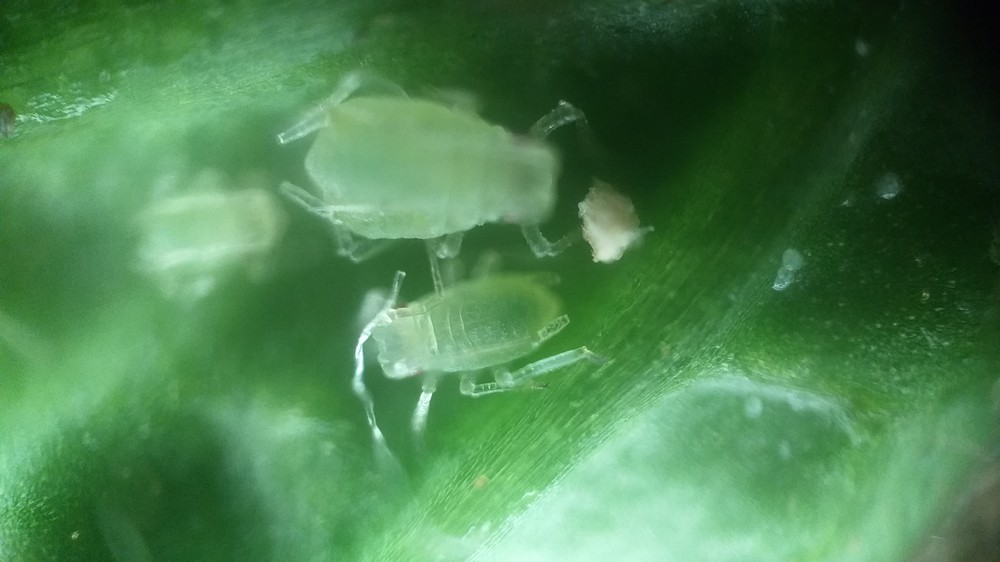Pulgon: (287, 63, 624, 269), (340, 260, 635, 429)
